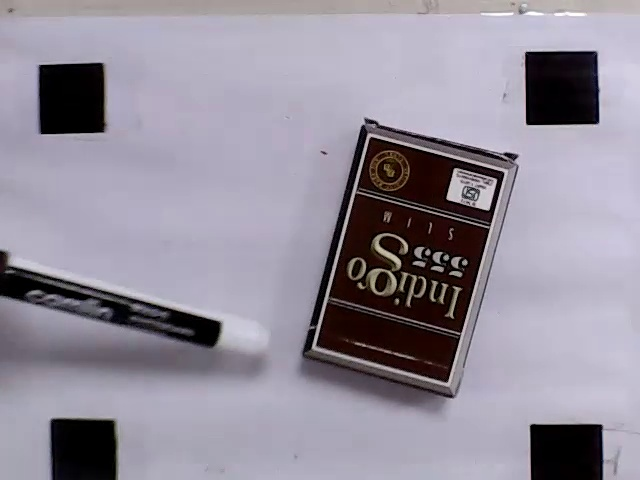BEX: (314, 134, 505, 386)
